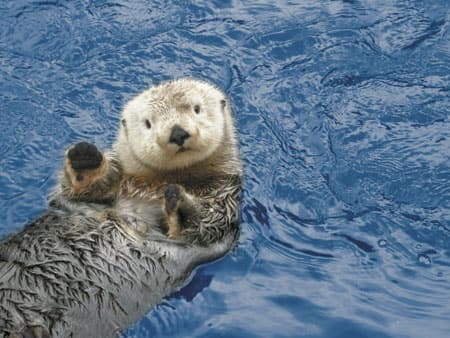otter: (9, 67, 271, 338)
